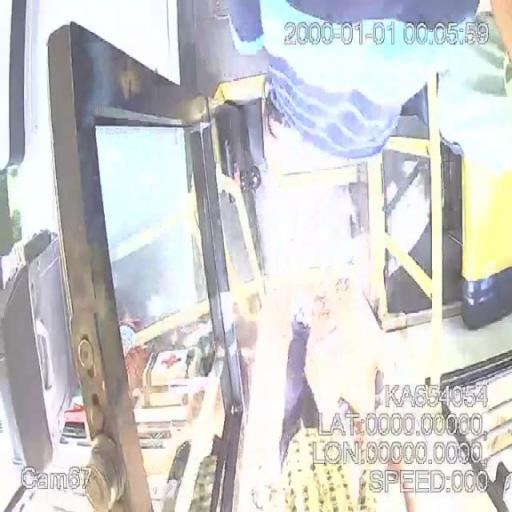persona: (221, 0, 469, 174), (276, 274, 414, 511)
